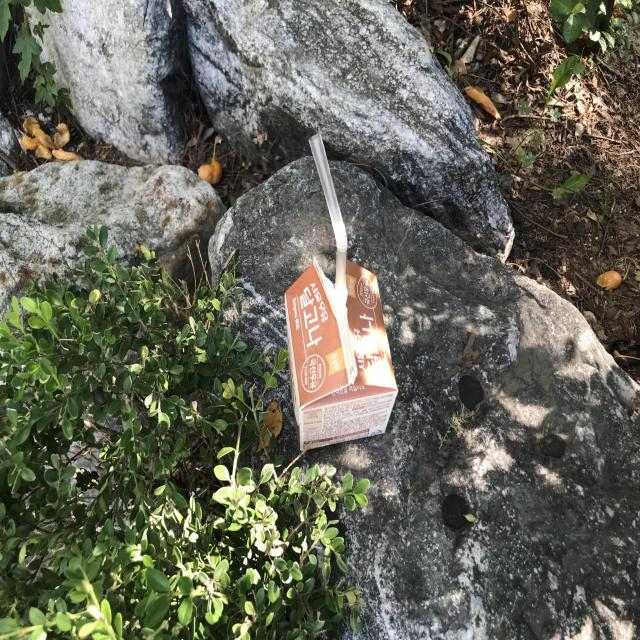paperpack: (285, 259, 398, 450)
